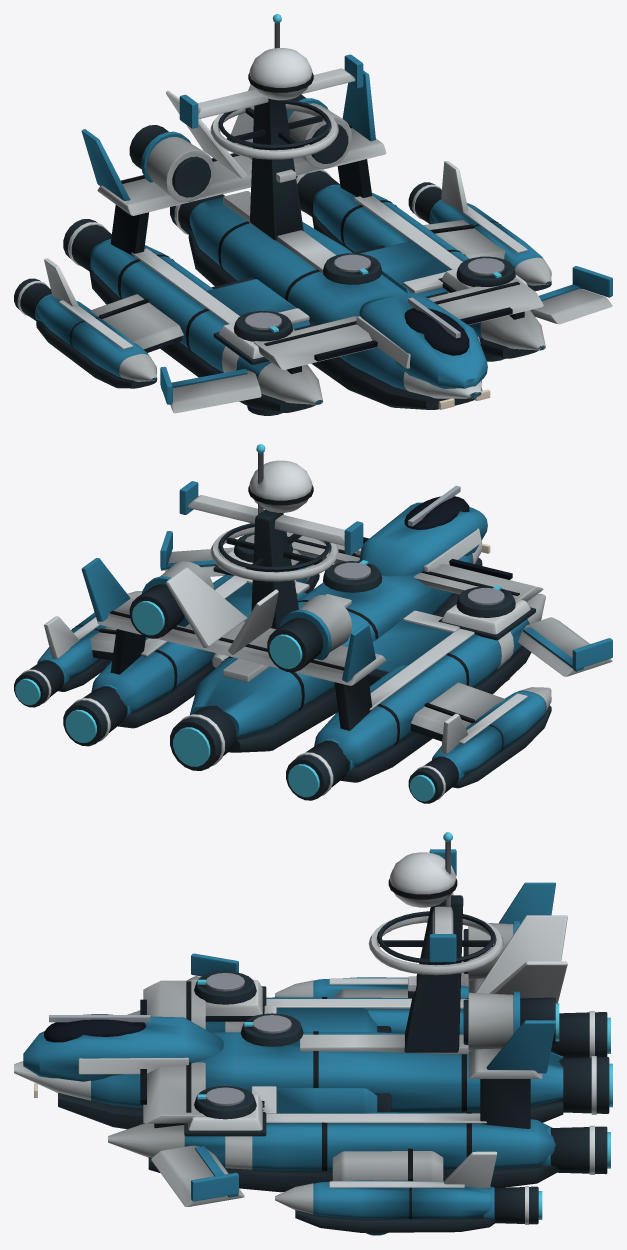
The model's file is ex_skiff_9.glb.
The picture shows the model from 3 angles, top to bottom: view 1: azimuth 30°, elevation 25°; view 2: azimuth 150°, elevation 25°; view 3: azimuth 270°, elevation 25°; orthographic projection. The views are drawn at different scales.
Parts seen in each view (by area): view 1: body; view 2: body; view 3: body.
Boxes of the visible parts, bbox=[...] form: body: bbox=[14, 14, 612, 415]; body: bbox=[14, 444, 612, 803]; body: bbox=[14, 832, 612, 1235].
Bounding box in the file's own units: 10.38 × 6.35 × 11.45.
